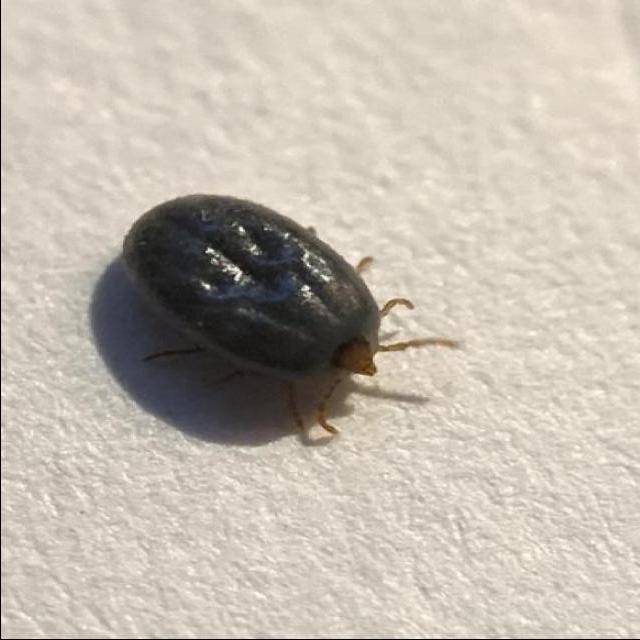Rhipicephalus Sanguineus-F-Fed: (117, 194, 458, 449)
